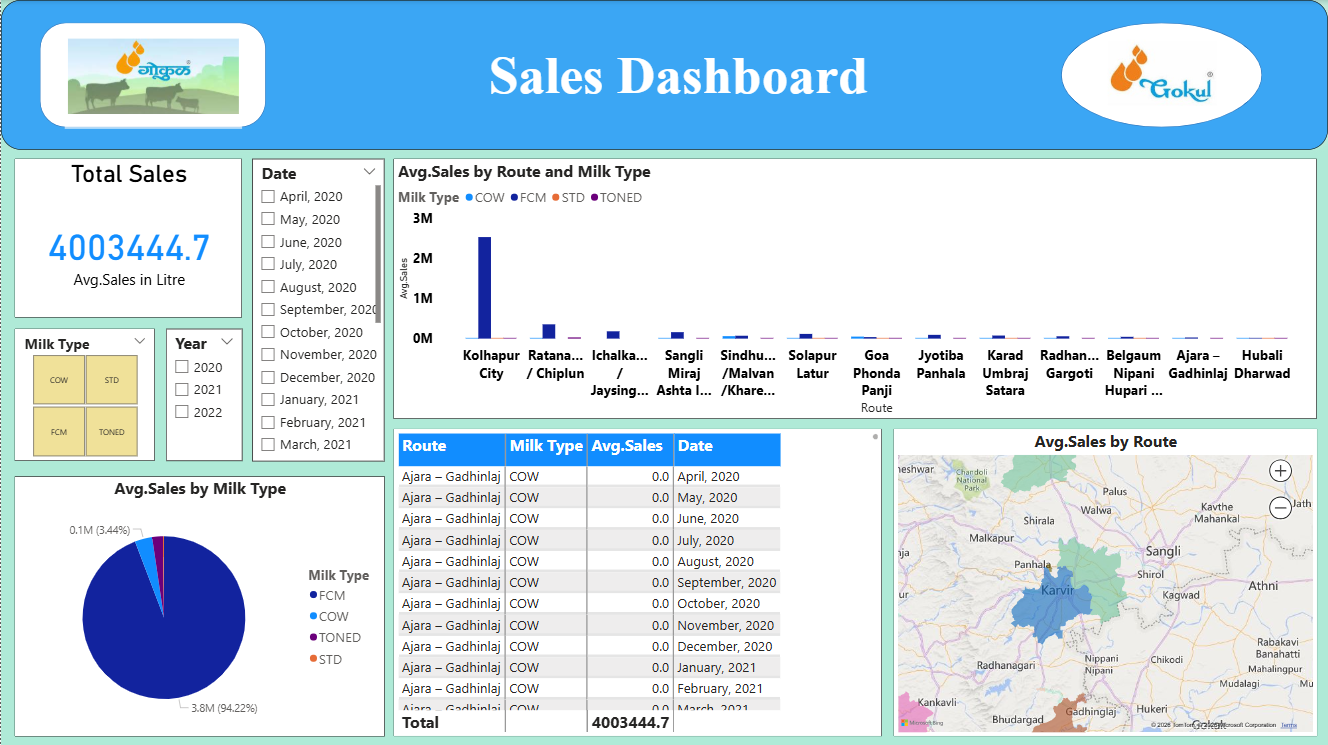

Layout of this report page (visuals, bound fields, positions):
{"tool":"powerbi","page":{"name":"Page 1","canvas":[2000,1124],"ordinal":0},"visuals":[{"type":"textbox","title":"fggfggfdg","box":[0,0,1999.5,225.9],"z":1000},{"type":"card","title":"Total Sales","fields":{"Values":["Sum(Sheet1.Avg.Sales)"]},"box":[20.7,239.1,342.7,239.1],"z":2000},{"type":"filledMap","fields":{"Category":["Sheet1.Route"]},"box":[1344.3,645.8,638.3,463.2],"z":5000},{"type":"clusteredColumnChart","fields":{"Category":["Sheet1.Route"],"Y":["Sum(Sheet1.Avg.Sales)"],"Series":["Sheet1.Milk Type"]},"box":[591.2,239.1,1391.4,391.6],"z":6000},{"type":"tableEx","fields":{"Values":["Sheet1.Route","Sheet1.Milk Type","Sum(Sheet1.Avg.Sales)","Sheet1.Date"]},"box":[591.2,645.8,736.2,463.2],"z":7000},{"type":"pieChart","fields":{"Category":["Sheet1.Milk Type"],"Y":["Sum(Sheet1.Avg.Sales)"]},"box":[20.7,717.3,557.3,391.6],"z":8000},{"type":"shape","box":[1596.6,33.9,303.1,158.2],"z":9000},{"type":"shape","box":[58.4,33.9,340.8,158.2],"z":9500},{"type":"slicer","fields":{"Values":["Sheet1.Milk Type"]},"box":[20.7,495.2,210.9,199.6],"z":10000},{"type":"image","box":[96,35.8,267.4,158.2],"z":11000},{"type":"image","box":[1615.4,54.6,267.4,118.6],"z":12000},{"type":"slicer","fields":{"Values":["Sheet1.Date"]},"box":[378.4,239.1,199.6,455.6],"z":12001},{"type":"slicer","fields":{"Values":["Sheet1.Year"]},"box":[248.5,495.2,114.8,199.6],"z":12002}]}

Visuals, with their boxes in screenshot pixels (x1, y1, x2, y2), scaled from the page's 2000x1124 canvas onto the 1328x745 screenshot:
"fggfggfdg" textbox: bbox(0, 0, 1327, 150)
"Total Sales" card: bbox(14, 158, 241, 317)
filledMap - Sheet1.Route: bbox(893, 428, 1316, 735)
clusteredColumnChart - Sheet1.Route x Sum(Sheet1.Avg.Sales): bbox(393, 158, 1316, 418)
tableEx - Sheet1.Route x Sheet1.Milk Type: bbox(393, 428, 881, 735)
pieChart - Sheet1.Milk Type x Sum(Sheet1.Avg.Sales): bbox(14, 475, 384, 735)
shape: bbox(1060, 22, 1261, 127)
shape: bbox(39, 22, 265, 127)
slicer - Sheet1.Milk Type: bbox(14, 328, 154, 461)
image: bbox(64, 24, 241, 129)
image: bbox(1073, 36, 1250, 115)
slicer - Sheet1.Date: bbox(251, 158, 384, 460)
slicer - Sheet1.Year: bbox(165, 328, 241, 461)
